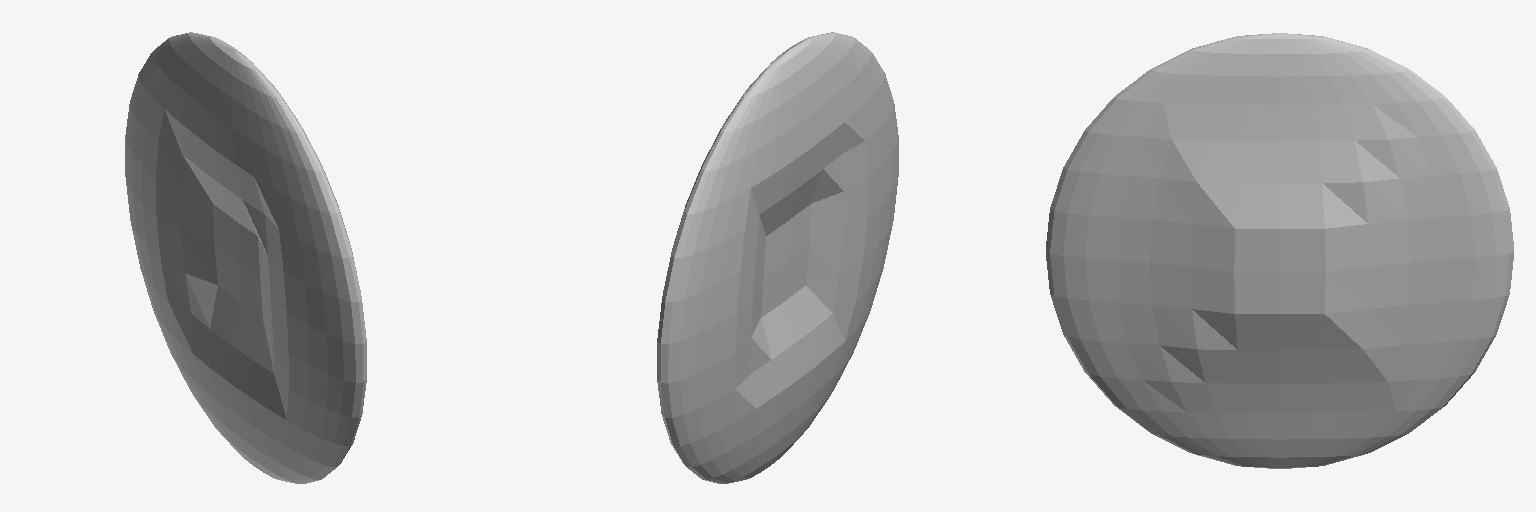
Rendered from shield_000015.obj.
3 views of the same model, side by side, from view 1: azimuth 30°, elevation 25°; view 2: azimuth 150°, elevation 25°; view 3: azimuth 270°, elevation 25° (orthographic).
Bounding box in the file's own units: 0.4062 × 2 × 2.